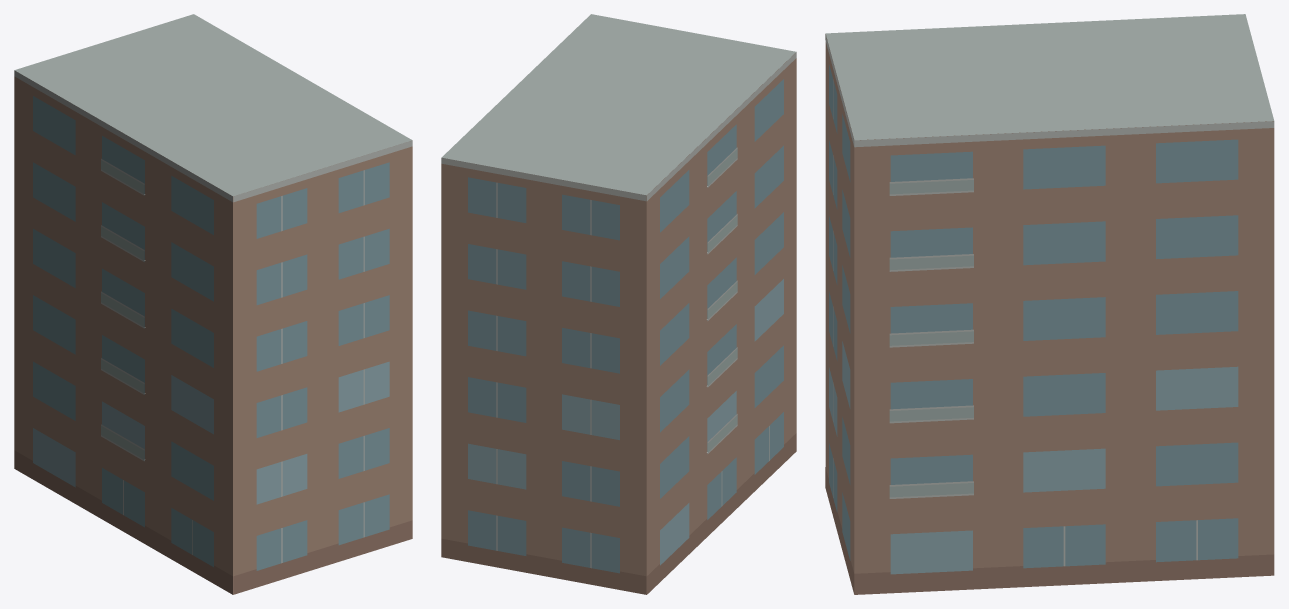
The model's file is survey-upis-32890989.glb.
3 renders of one model, left to right at view 1: azimuth 30°, elevation 25°; view 2: azimuth 150°, elevation 25°; view 3: azimuth 270°, elevation 25°, orthographic. The views are drawn at different scales.
Parts seen in each view (by area): view 1: survey-upis-32890989.tmp; view 2: survey-upis-32890989.tmp; view 3: survey-upis-32890989.tmp.
Part boxes in pixels (box(x1,y1,x2,y2)): survey-upis-32890989.tmp: box(14, 14, 412, 594); survey-upis-32890989.tmp: box(441, 14, 796, 594); survey-upis-32890989.tmp: box(825, 14, 1274, 594).
Size of the model in its own units: 9.61 by 16.1 by 14.42.
